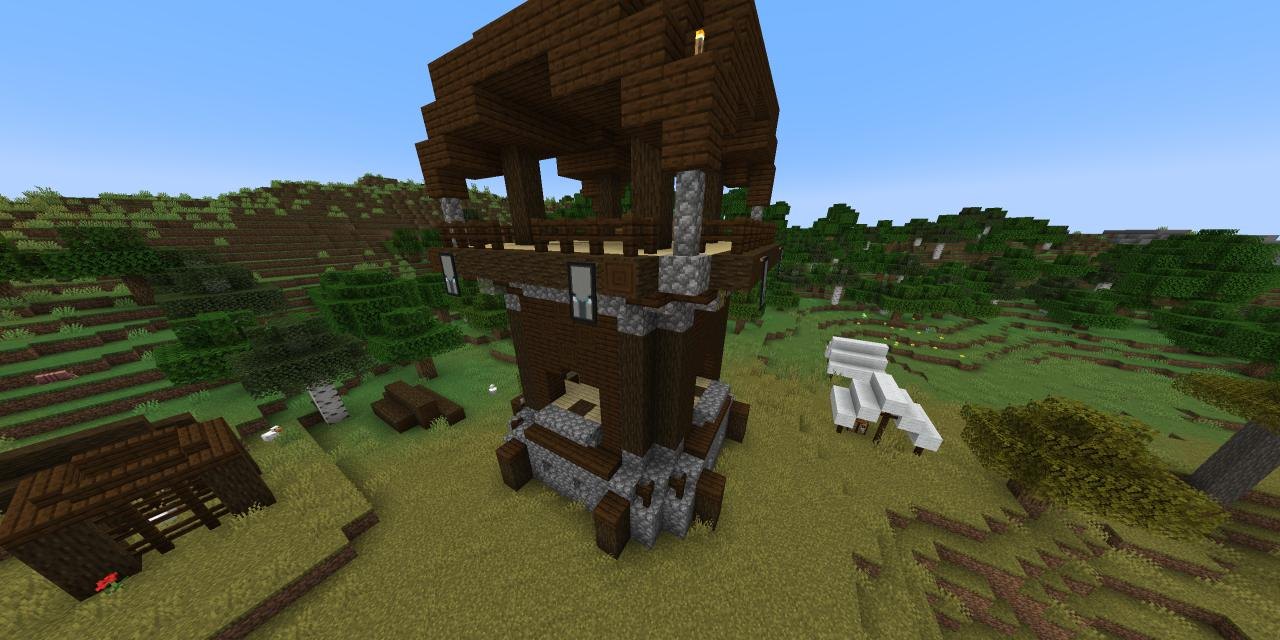pillager outpost: (405, 0, 794, 564)
